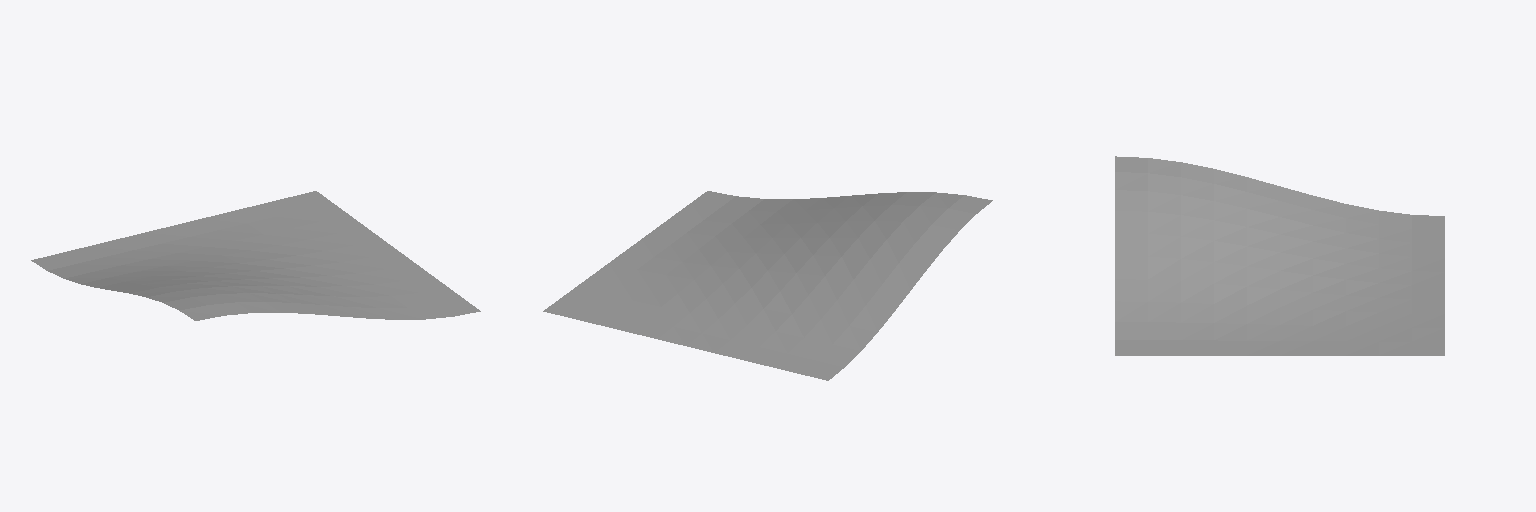
Rendered from grass_bottom_to_top_bottom.obj.
The picture shows the model from 3 angles: view 1: azimuth 30°, elevation 25°; view 2: azimuth 150°, elevation 25°; view 3: azimuth 270°, elevation 25°; orthographic projection.
Parts seen in each view (by area): view 1: Grass_Plane.015; view 2: Grass_Plane.015; view 3: Grass_Plane.015.
Boxes of the visible parts, <box> form: Grass_Plane.015: <box>31,191,480,320</box>; Grass_Plane.015: <box>543,191,992,380</box>; Grass_Plane.015: <box>1115,156,1444,355</box>.
Size of the model in its own units: 10 by 2 by 10.